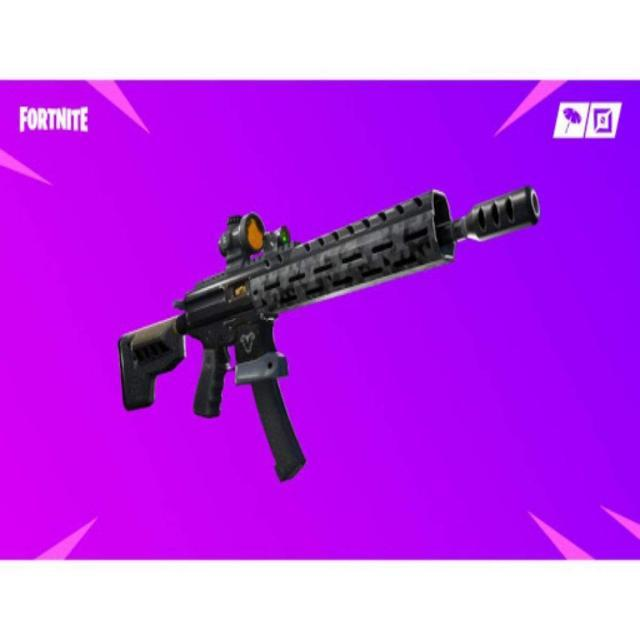rifle: (113, 166, 548, 491)
